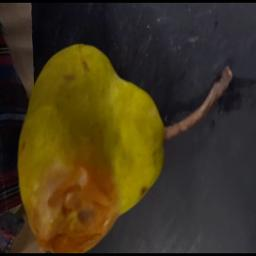Pear Rotten: (18, 35, 238, 251)
